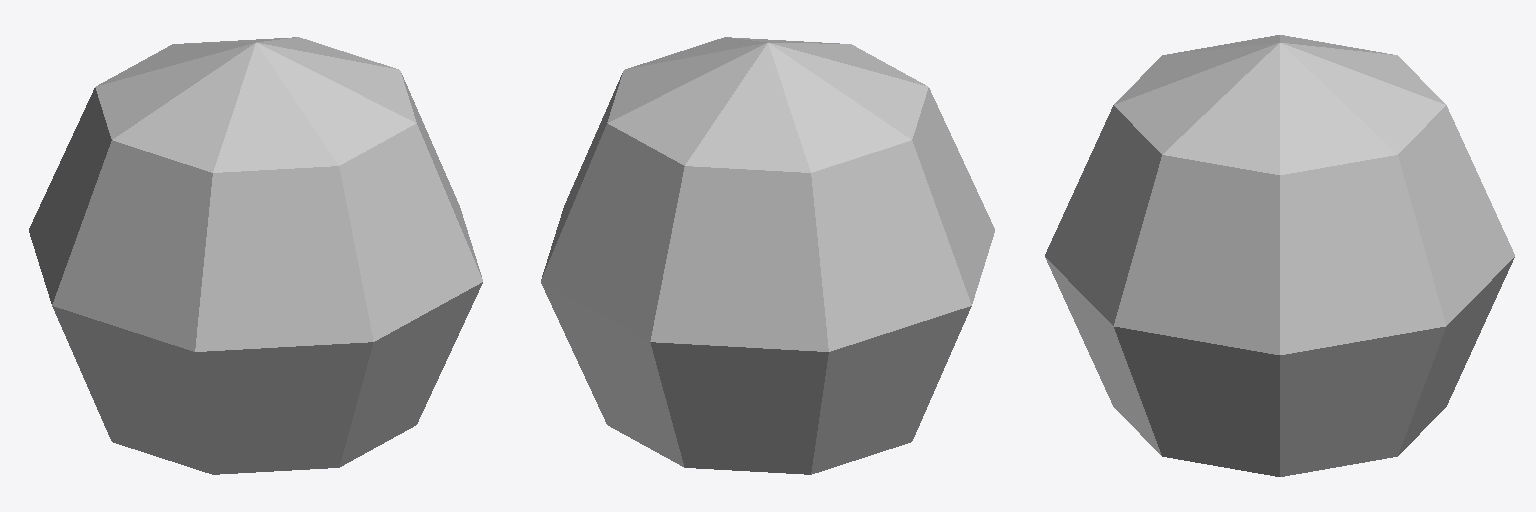
File: TableTennisBall01.obj
The picture shows the model from 3 angles: view 1: azimuth 30°, elevation 25°; view 2: azimuth 150°, elevation 25°; view 3: azimuth 270°, elevation 25°; orthographic projection.
Visible parts, largest first — view 1: TableTennisBall01; view 2: TableTennisBall01; view 3: TableTennisBall01.
Boxes of the visible parts, box(x1,y1,x2,y2) form: TableTennisBall01: box(29, 37, 482, 474); TableTennisBall01: box(541, 37, 994, 474); TableTennisBall01: box(1045, 35, 1514, 476).
Bounding box in the file's own units: 0.05 × 0.05 × 0.05.